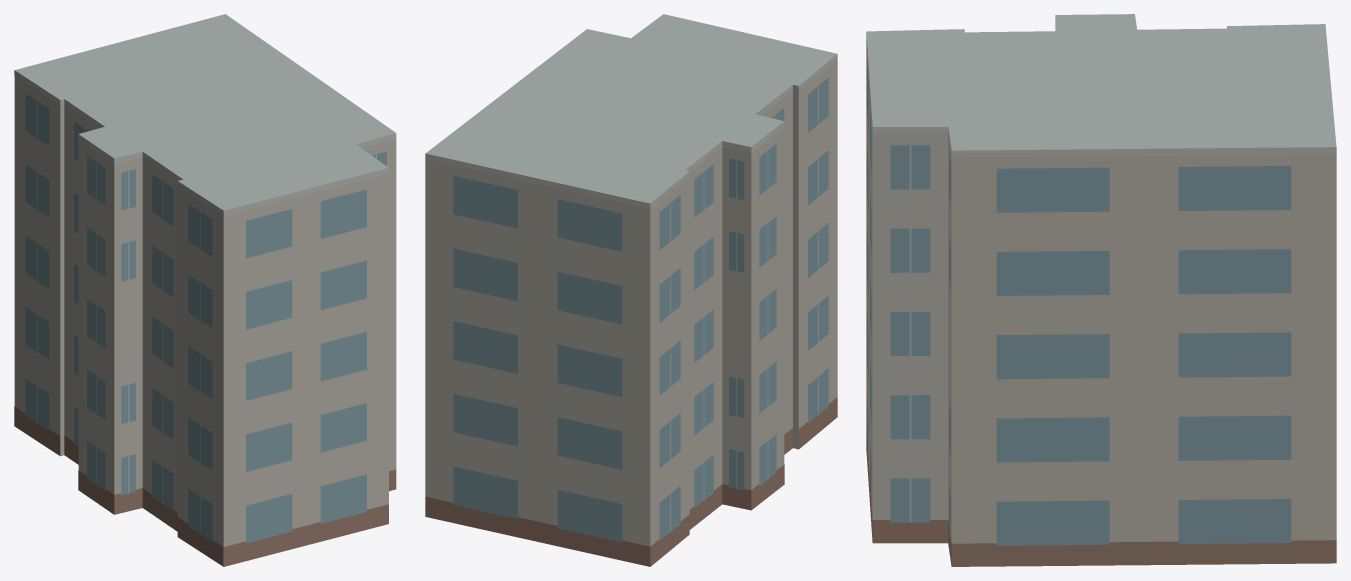
File: survey-upis-32544043.glb
3 views of the same model, side by side, from view 1: azimuth 30°, elevation 25°; view 2: azimuth 150°, elevation 25°; view 3: azimuth 270°, elevation 25° (orthographic). The views are drawn at different scales.
Parts seen in each view (by area): view 1: survey-upis-32544043.tmp; view 2: survey-upis-32544043.tmp; view 3: survey-upis-32544043.tmp.
Boxes of the visible parts, x1=… form: survey-upis-32544043.tmp: x1=14, y1=14, x2=396, y2=566; survey-upis-32544043.tmp: x1=425, y1=14, x2=837, y2=566; survey-upis-32544043.tmp: x1=866, y1=14, x2=1336, y2=566.
Size of the model in its own units: 10.74 by 15.25 by 15.62.
